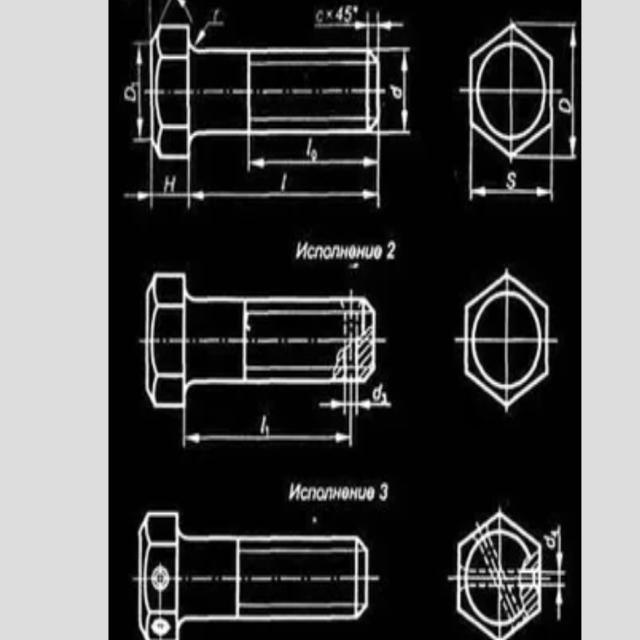marking_line: (122, 161, 383, 210), (185, 165, 382, 210), (182, 408, 358, 451), (468, 160, 556, 201), (554, 19, 578, 165), (381, 46, 411, 137), (123, 150, 154, 217), (544, 526, 564, 622), (315, 13, 371, 46), (133, 42, 149, 142), (354, 383, 392, 417), (315, 385, 348, 415), (376, 13, 404, 46), (196, 20, 224, 46)
numeric: (386, 242, 397, 260), (335, 6, 344, 23), (343, 5, 352, 22), (379, 481, 387, 500)
